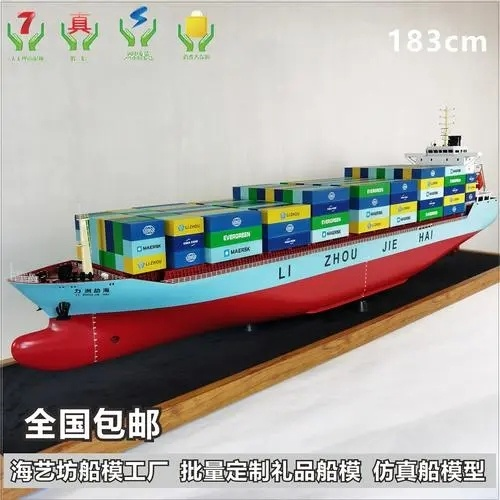Cargoship: (3, 107, 497, 367)
